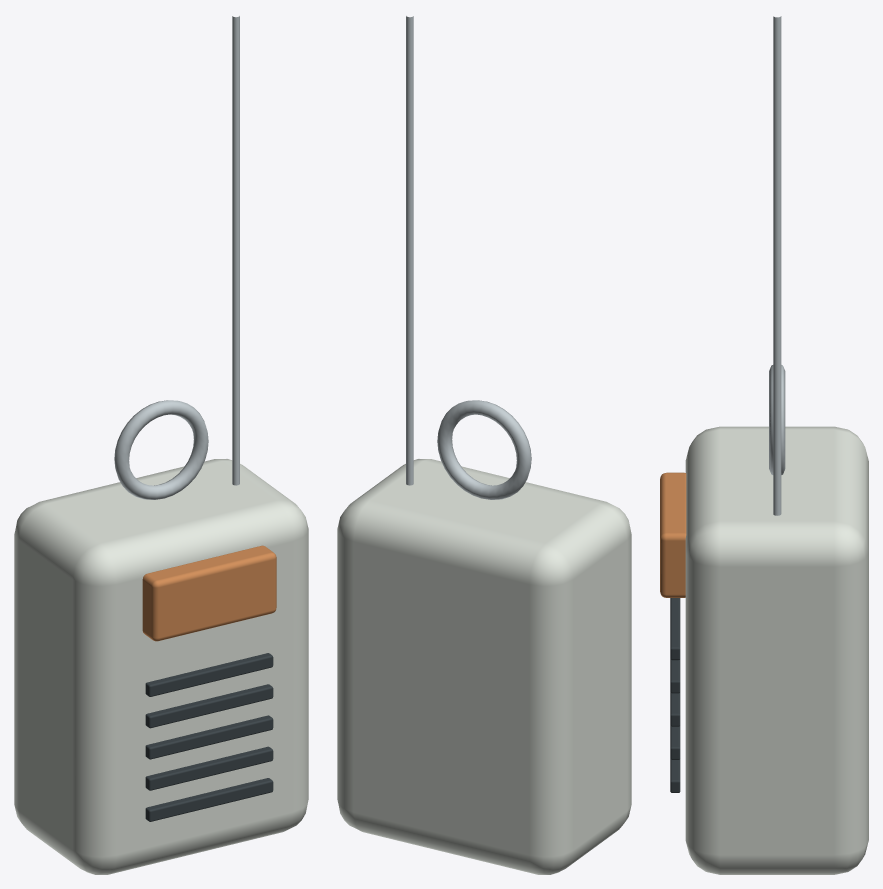
File: abandoned-weather-station-and-storm-shelter-radiosonde-a6efd025__31028.glb
3 views of the same model, side by side, from view 1: azimuth 30°, elevation 25°; view 2: azimuth 150°, elevation 25°; view 3: azimuth 270°, elevation 25° (orthographic). The views are drawn at different scales.
Visible parts, largest first — view 1: radiosonde-package; view 2: radiosonde-package; view 3: radiosonde-package.
Boxes of the visible parts, box(x1,y1,x2,y2) form: radiosonde-package: box(14, 16, 308, 874); radiosonde-package: box(337, 16, 631, 874); radiosonde-package: box(660, 16, 868, 874).
Size of the model in its own units: 0.14 by 0.46 by 0.1025.
